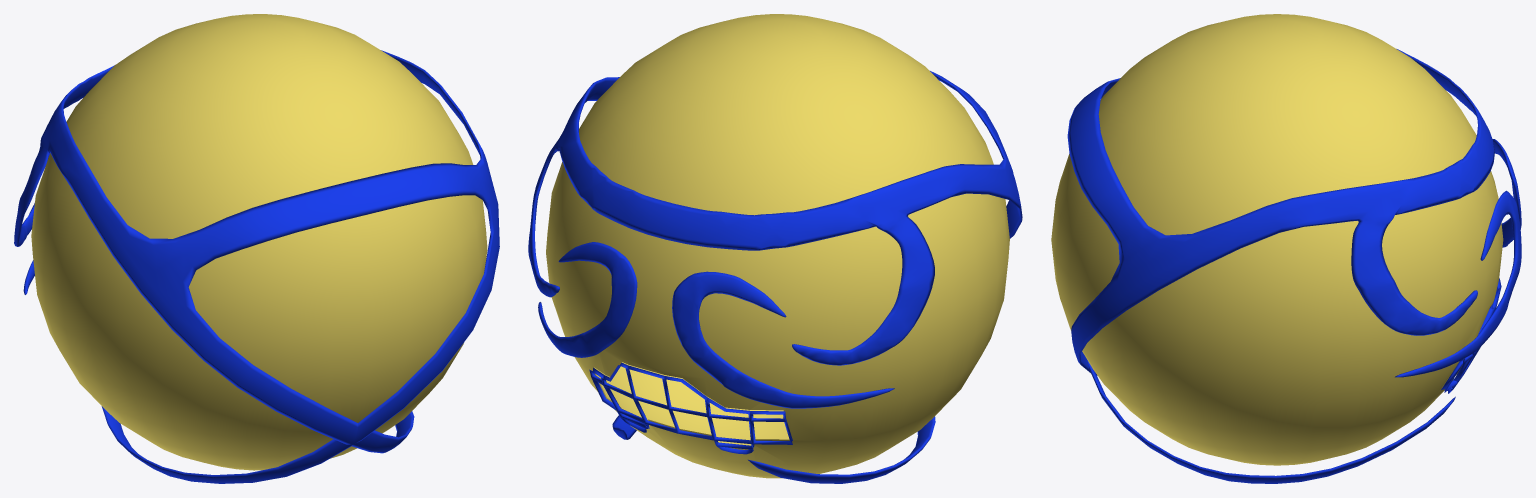
The model's file is LootBoxFBX_Mats.fbx.
The picture shows the model from 3 angles, left to right: view 1: azimuth 30°, elevation 25°; view 2: azimuth 150°, elevation 25°; view 3: azimuth 270°, elevation 25°; orthographic projection. The views are drawn at different scales.
Visible parts, largest first — view 1: Orb; view 2: Orb; view 3: Orb.
Part boxes in pixels (bbox=[...]): Orb: bbox=[14, 14, 499, 483]; Orb: bbox=[528, 14, 1022, 483]; Orb: bbox=[1051, 14, 1521, 483].
Bounding box in the file's own units: 204 × 204 × 213.
